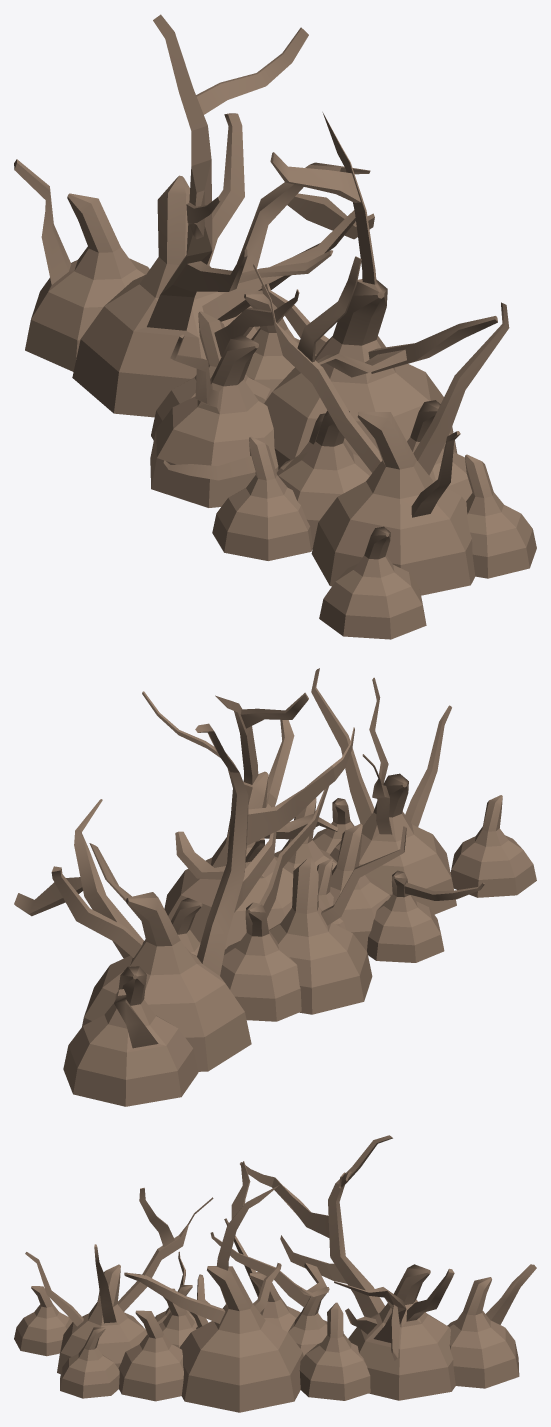
The model's file is VineBlock.fbx.
The picture shows the model from 3 angles, top to bottom: view 1: azimuth 30°, elevation 25°; view 2: azimuth 150°, elevation 25°; view 3: azimuth 270°, elevation 25°; orthographic projection. The views are drawn at different scales.
Parts seen in each view (by area): view 1: pSphere14; view 2: pSphere14; view 3: pSphere14.
Boxes of the visible parts, <box> form: pSphere14: <box>14,14,536,639</box>; pSphere14: <box>14,668,536,1106</box>; pSphere14: <box>14,1135,536,1412</box>.
Bounding box in the file's own units: 9.02 × 8.4 × 17.42.
